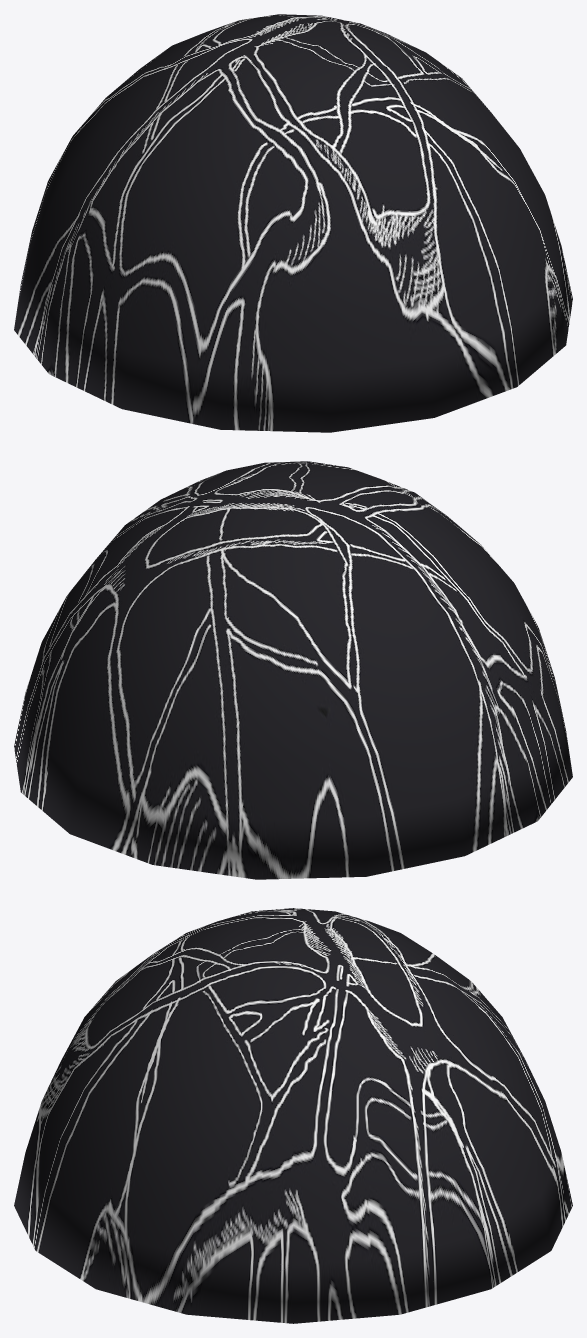
The model's file is bowlfung.dae.
3 renders of one model, top to bottom at view 1: azimuth 30°, elevation 25°; view 2: azimuth 150°, elevation 25°; view 3: azimuth 270°, elevation 25°, orthographic.
Visible parts, largest first — view 1: Sphere-004; view 2: Sphere-004; view 3: Sphere-004.
Boxes of the visible parts, left/top/right/bottom form: Sphere-004: left=14, top=14, right=572, bottom=432; Sphere-004: left=14, top=461, right=572, bottom=879; Sphere-004: left=14, top=908, right=572, bottom=1323.
Bounding box in the file's own units: 0.1852 × 0.0998 × 0.1852.
Materials: 1 (1 with a texture image).
